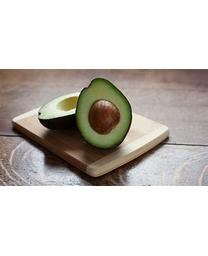avocado: (74, 77, 134, 152), (38, 90, 94, 134)
